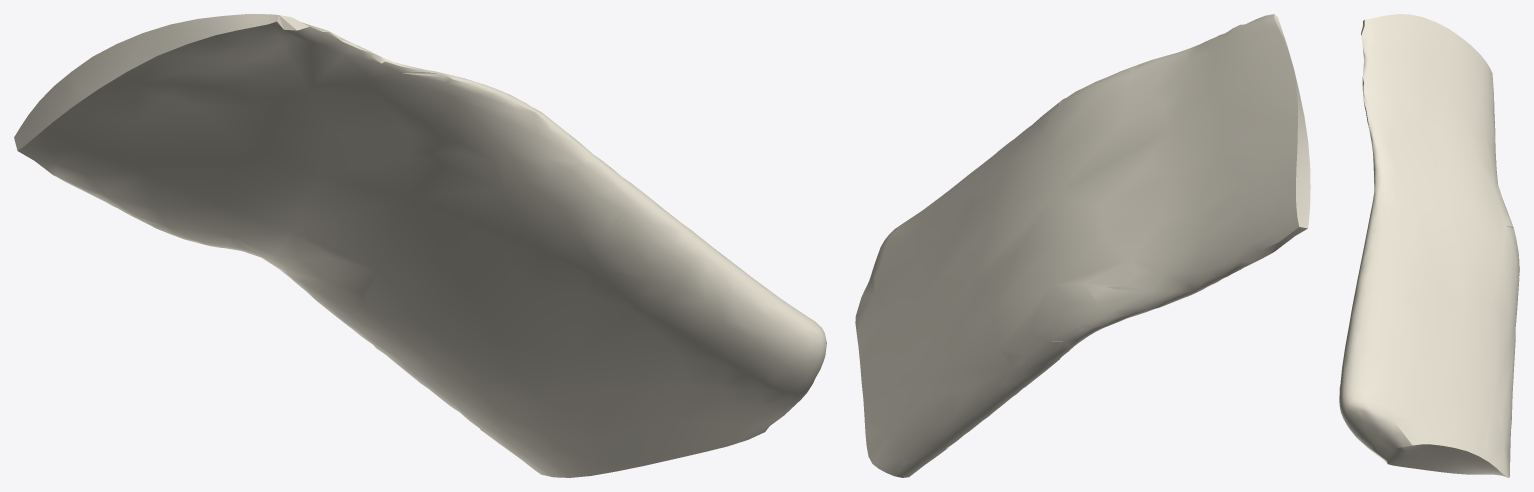
The model's file is fma73158_mm1448.glb.
The picture shows the model from 3 angles, left to right: view 1: azimuth 30°, elevation 25°; view 2: azimuth 150°, elevation 25°; view 3: azimuth 270°, elevation 25°; orthographic projection. The views are drawn at different scales.
Parts seen in each view (by area): view 1: FMA73158_MM1448; view 2: FMA73158_MM1448; view 3: FMA73158_MM1448.
Boxes of the visible parts, x1,y1,x2,y2 form: FMA73158_MM1448: (14, 14, 826, 477); FMA73158_MM1448: (855, 14, 1310, 477); FMA73158_MM1448: (1339, 14, 1519, 477).
Bounding box in the file's own units: 0.012 × 0.0106 × 0.0049.
